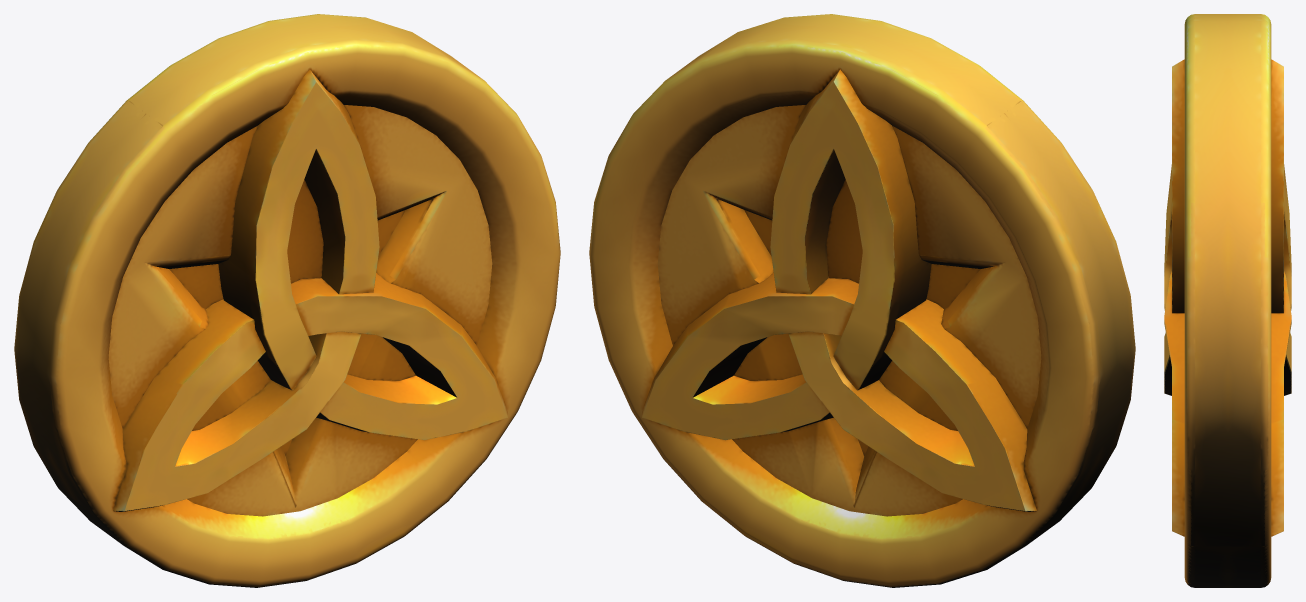
File: Mora 1.fbx
The picture shows the model from 3 angles, left to right: view 1: azimuth 30°, elevation 25°; view 2: azimuth 150°, elevation 25°; view 3: azimuth 270°, elevation 25°; orthographic projection. The views are drawn at different scales.
Visible parts, largest first — view 1: Coin_low.023; view 2: Coin_low.023; view 3: Coin_low.023.
Part boxes in pixels (x1=…): Coin_low.023: x1=14, y1=14, x2=560, y2=587; Coin_low.023: x1=589, y1=14, x2=1135, y2=587; Coin_low.023: x1=1164, y1=14, x2=1291, y2=587.
Bounding box in the file's own units: 159 × 159 × 35.3.
